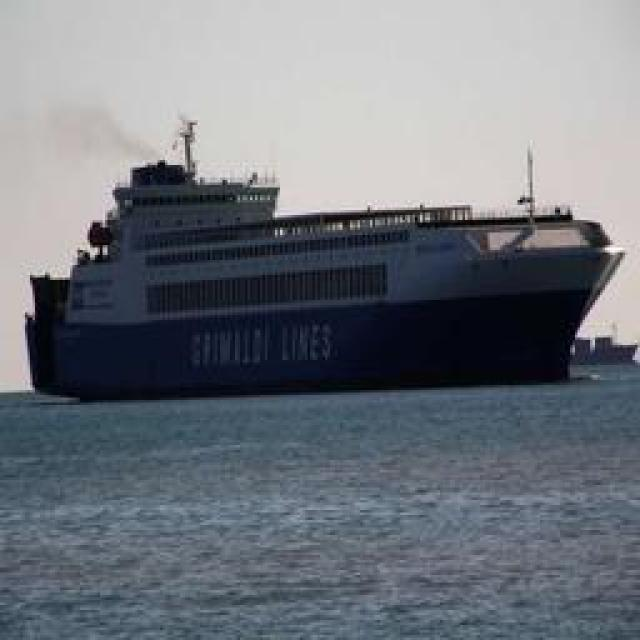ship2: (24, 121, 627, 406)
